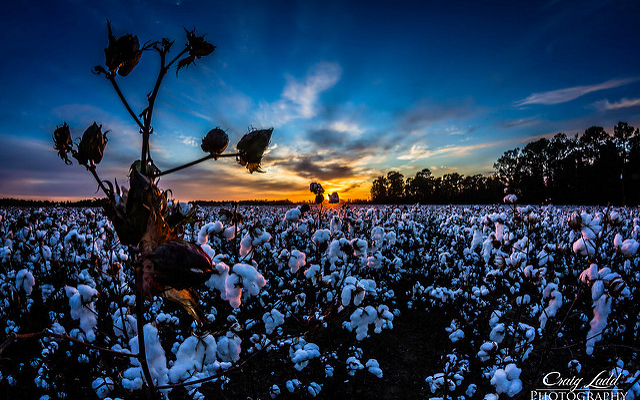cotton: (237, 198, 631, 359), (5, 209, 338, 395)
